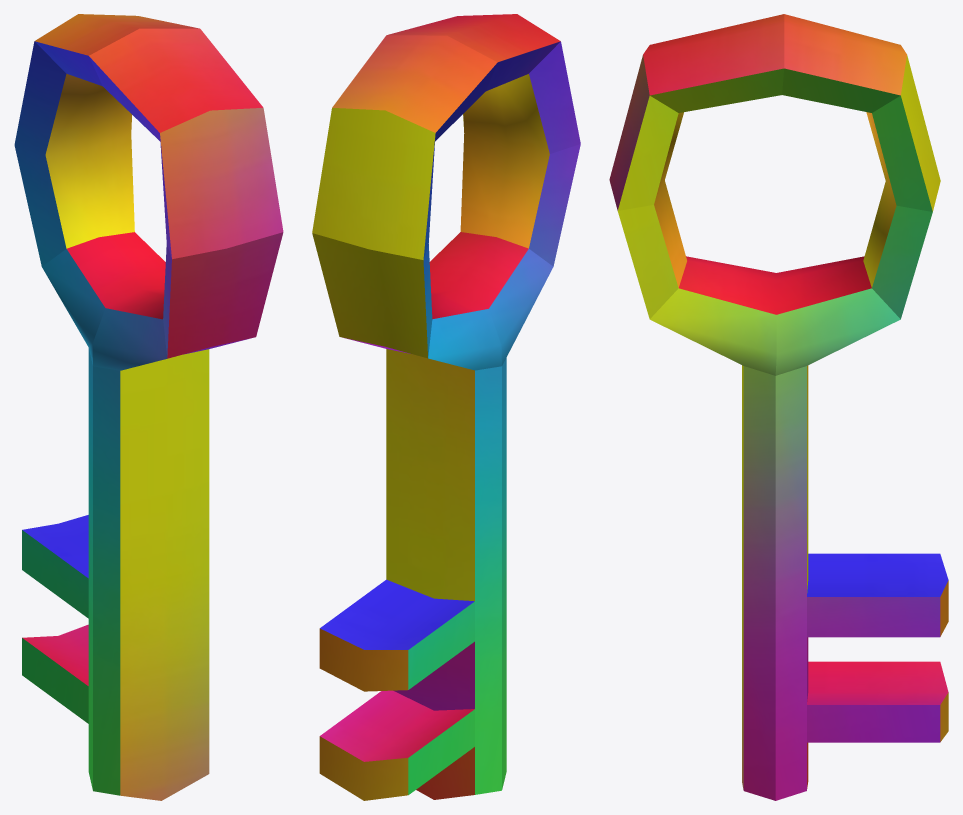
File: Key.fbx
3 views of the same model, side by side, from view 1: azimuth 30°, elevation 25°; view 2: azimuth 150°, elevation 25°; view 3: azimuth 270°, elevation 25° (orthographic).
Visible parts, largest first — view 1: pCube2; view 2: pCube2; view 3: pCube2.
Part boxes in pixels (box(x1,y1,x2,y2)): pCube2: box(14, 14, 283, 800); pCube2: box(312, 14, 580, 800); pCube2: box(609, 14, 948, 800).
Size of the model in its own units: 60.23 by 393 by 159.
